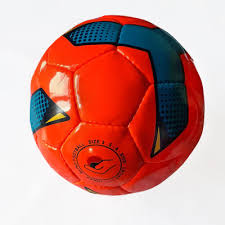football ball: (27, 12, 207, 197)
